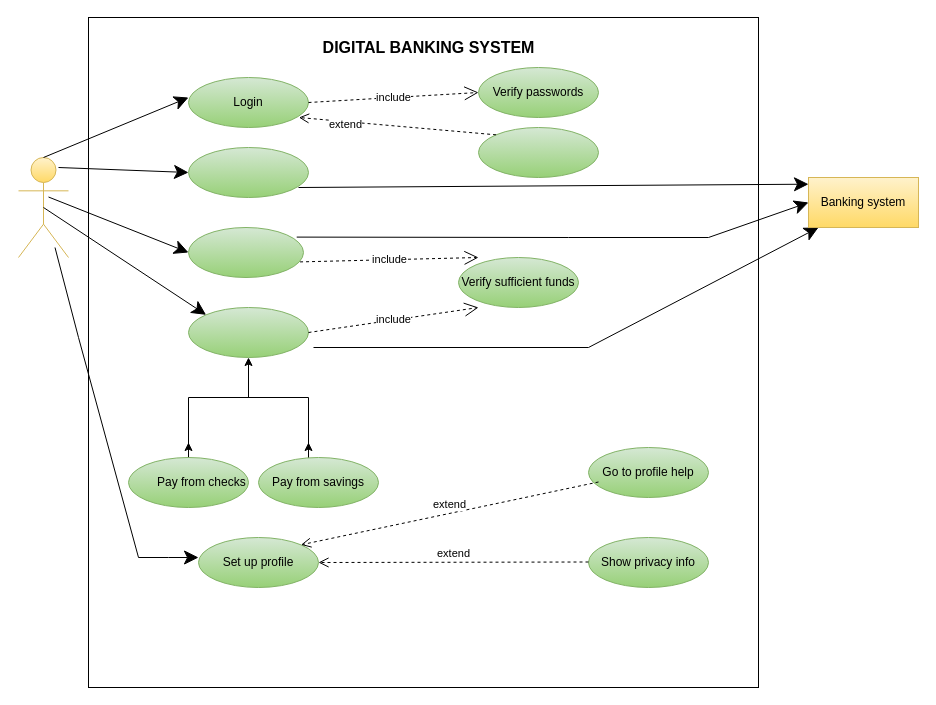
Some shapes in this 936 by 705 pixel diagram are drawn without their labels. Here are the shapes that lost their labels. From the top down, the centre of each, then its label:
At pixel 248 172: "Check balance".
At pixel 538 152: "Display login errror".
At pixel 43 207: "Customer".
At pixel 246 252: "Transfer funds".
At pixel 248 332: "Make payments".
